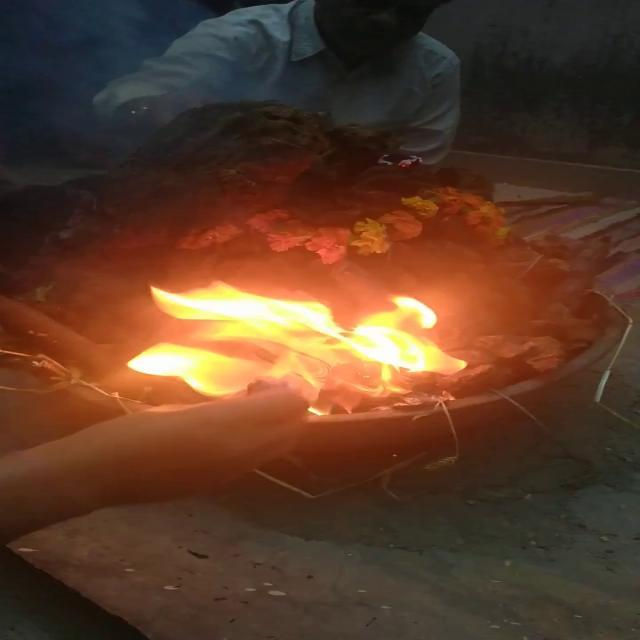Fire: (138, 280, 470, 410)
Smoke: (3, 0, 249, 108), (46, 108, 166, 168)
